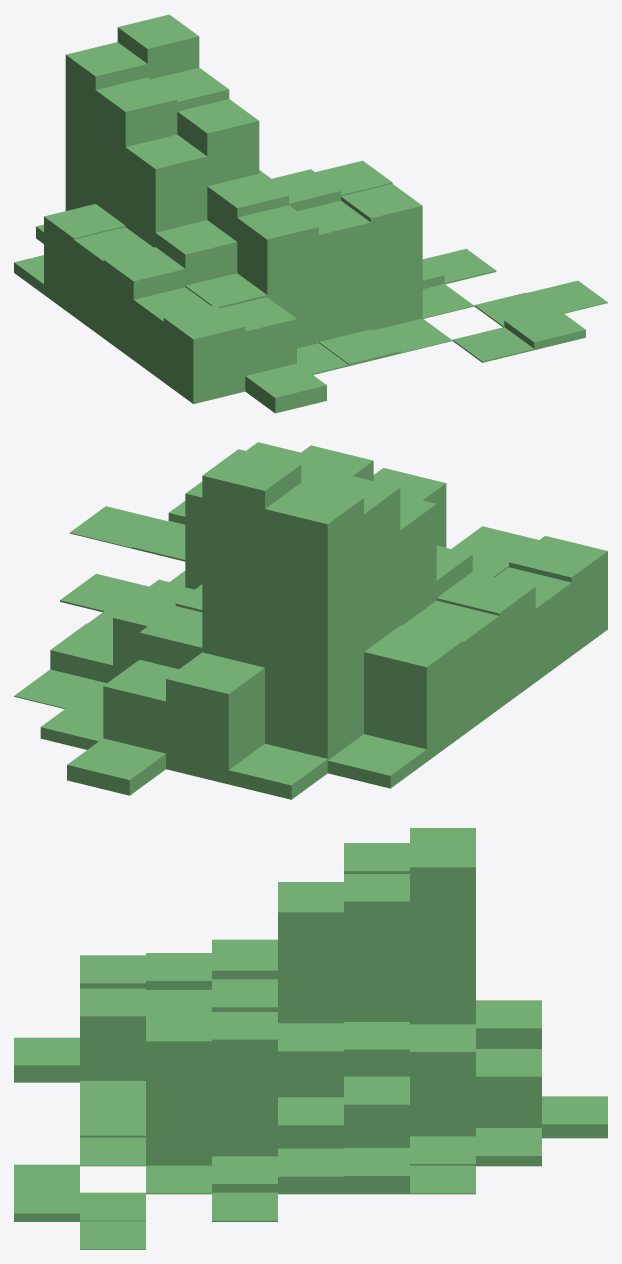
File: SM_Terrain_Mountain_03.fbx
The picture shows the model from 3 angles, top to bottom: view 1: azimuth 30°, elevation 25°; view 2: azimuth 150°, elevation 25°; view 3: azimuth 270°, elevation 25°; orthographic projection. The views are drawn at different scales.
Parts seen in each view (by area): view 1: SM_Terrain_Mountain_03; view 2: SM_Terrain_Mountain_03; view 3: SM_Terrain_Mountain_03.
Boxes of the visible parts, box(x1,y1,x2,y2) form: SM_Terrain_Mountain_03: box(14, 14, 607, 413); SM_Terrain_Mountain_03: box(14, 442, 607, 799); SM_Terrain_Mountain_03: box(14, 828, 607, 1249).
Bounding box in the file's own units: 3200 × 1626 × 3600.
